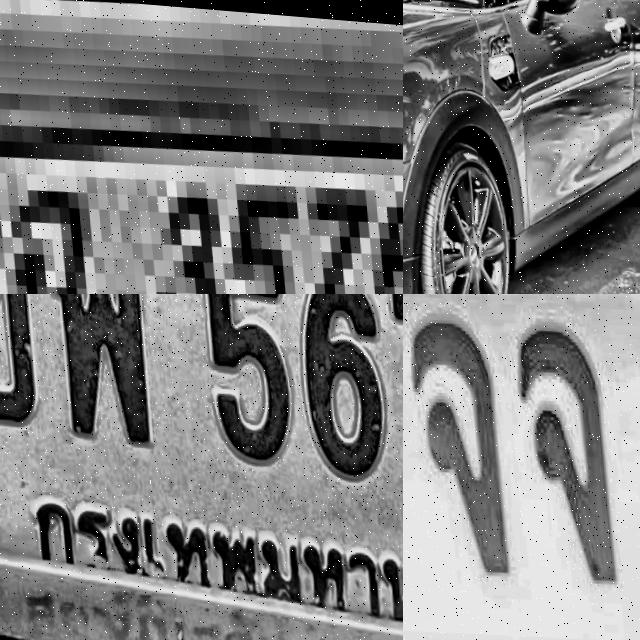license-plate: (0, 294, 403, 640), (0, 0, 403, 294), (403, 294, 640, 640)
